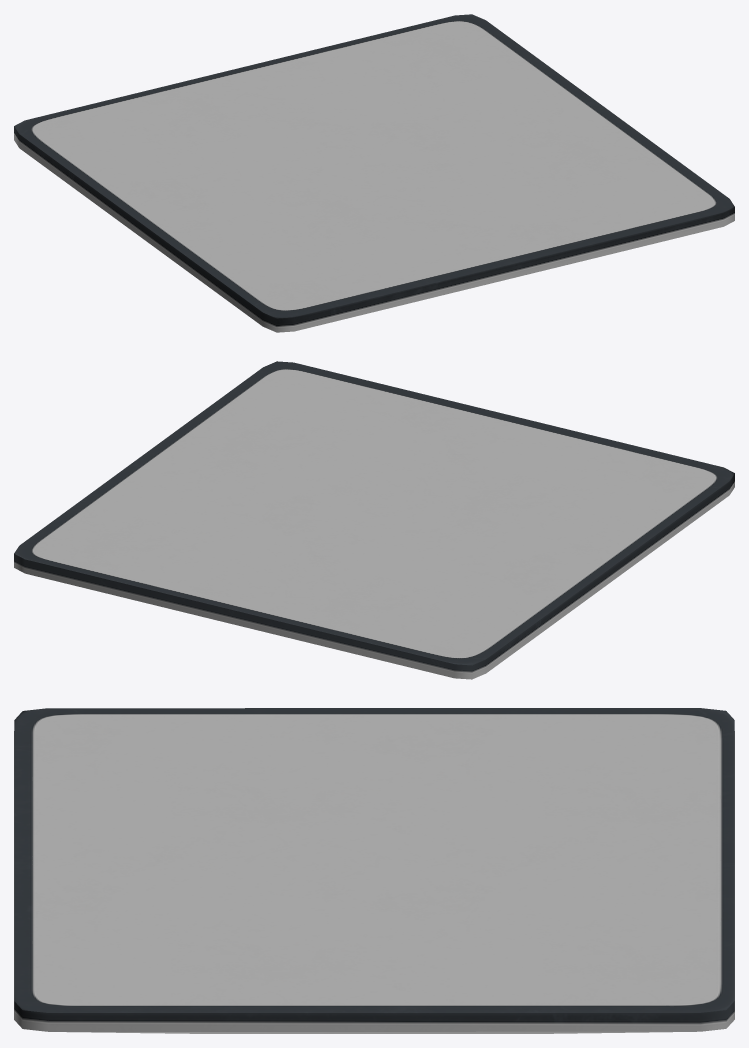
The model's file is starlink_mini_dish.glb.
3 renders of one model, top to bottom at view 1: azimuth 30°, elevation 25°; view 2: azimuth 150°, elevation 25°; view 3: azimuth 270°, elevation 25°, orthographic. The views are drawn at different scales.
Parts seen in each view (by area): view 1: Object_2; view 2: Object_2; view 3: Object_2.
Boxes of the visible parts, left/top/right/bottom form: Object_2: left=14, top=14, right=734, bottom=332; Object_2: left=14, top=361, right=734, bottom=679; Object_2: left=14, top=708, right=734, bottom=1033.
Bounding box in the file's own units: 199 × 27.39 × 199.
Materials: 1 (1 with a texture image).
